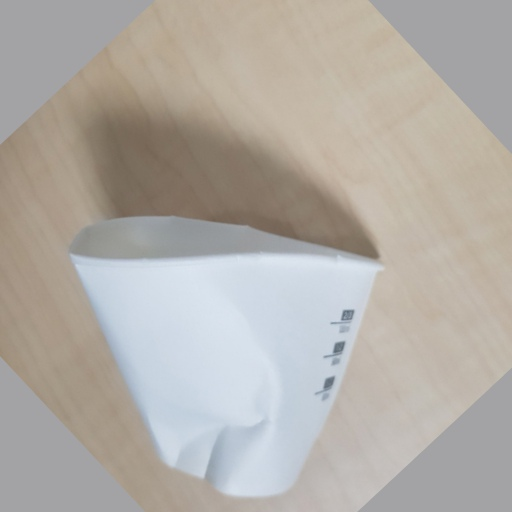Paper_1: (68, 213, 386, 493)
